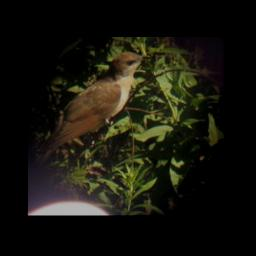Cuckoo: (31, 51, 152, 171)
